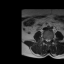CCS_severe_stenosis: (47, 38, 49, 44)
LFS_stenosis: (50, 36, 52, 42)
LLS_stenosis: (49, 38, 50, 43)
RFS_normal: (43, 37, 45, 42)
RLS_normal: (45, 38, 47, 43)
